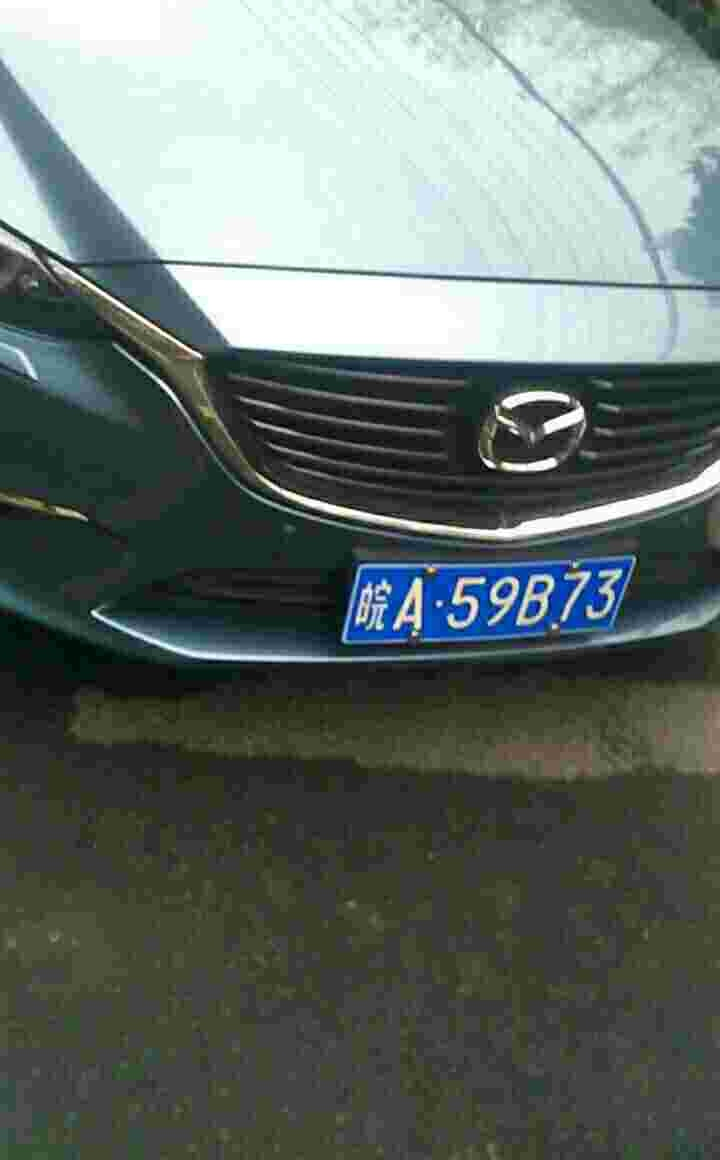license_plate: (335, 564, 629, 646)
